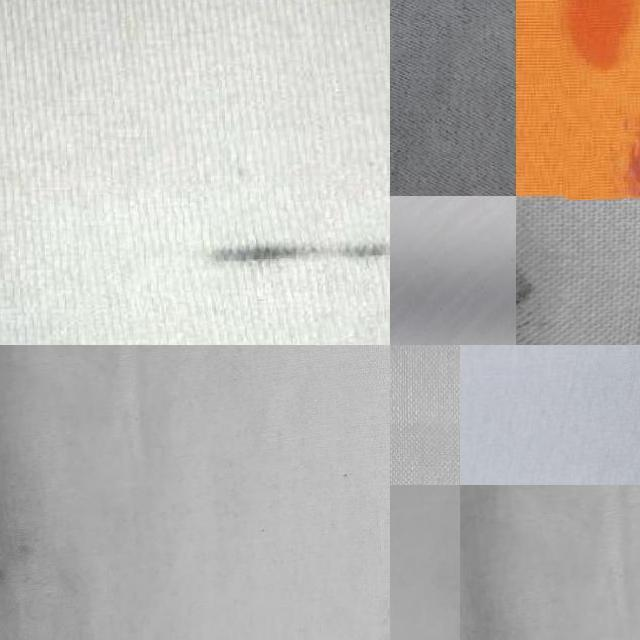Hole: (290, 489, 390, 640), (516, 231, 568, 345), (0, 457, 28, 598)
Thread_other: (84, 179, 390, 345)
